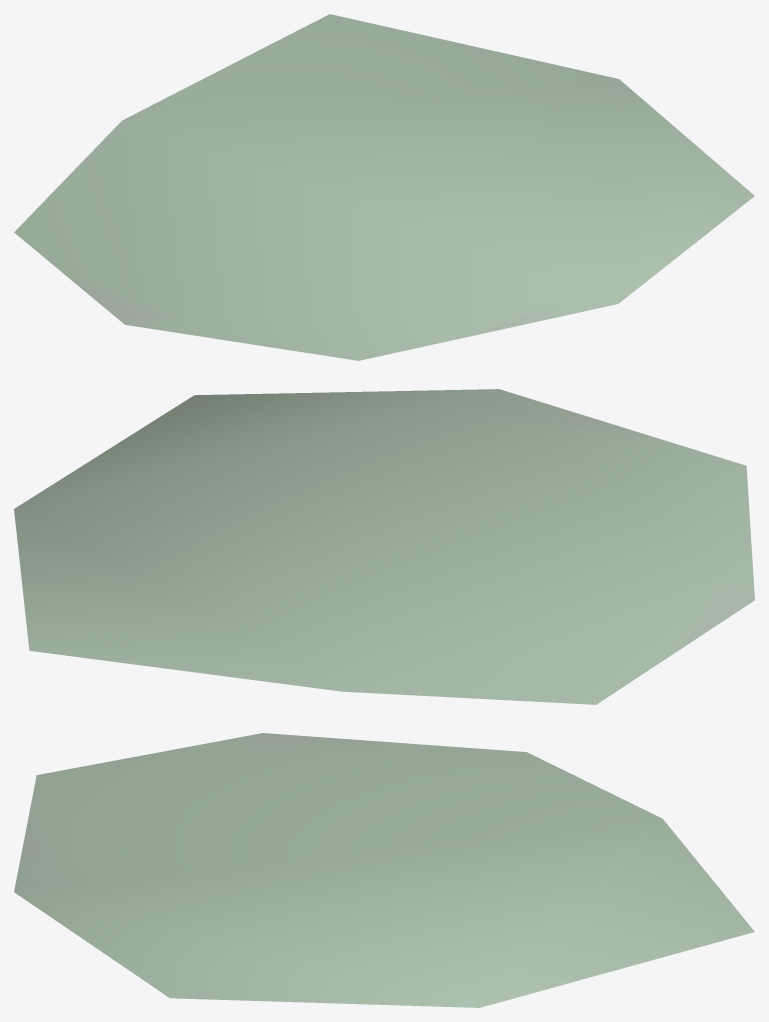
File: TROLLHOLE02_HOLECAP21.fbx
3 views of the same model, one above another, from view 1: azimuth 30°, elevation 25°; view 2: azimuth 150°, elevation 25°; view 3: azimuth 270°, elevation 25° (orthographic). The views are drawn at different scales.
Parts seen in each view (by area): view 1: TROLLHOLE02_HOLECAP21; view 2: TROLLHOLE02_HOLECAP21; view 3: TROLLHOLE02_HOLECAP21.
Part boxes in pixels (x1,y1,x2,y2): TROLLHOLE02_HOLECAP21: [14, 14, 754, 360]; TROLLHOLE02_HOLECAP21: [14, 389, 754, 704]; TROLLHOLE02_HOLECAP21: [14, 733, 754, 1007].
Size of the model in its own units: 33340 by 1614 by 35424.
1 material, 1 textured.
